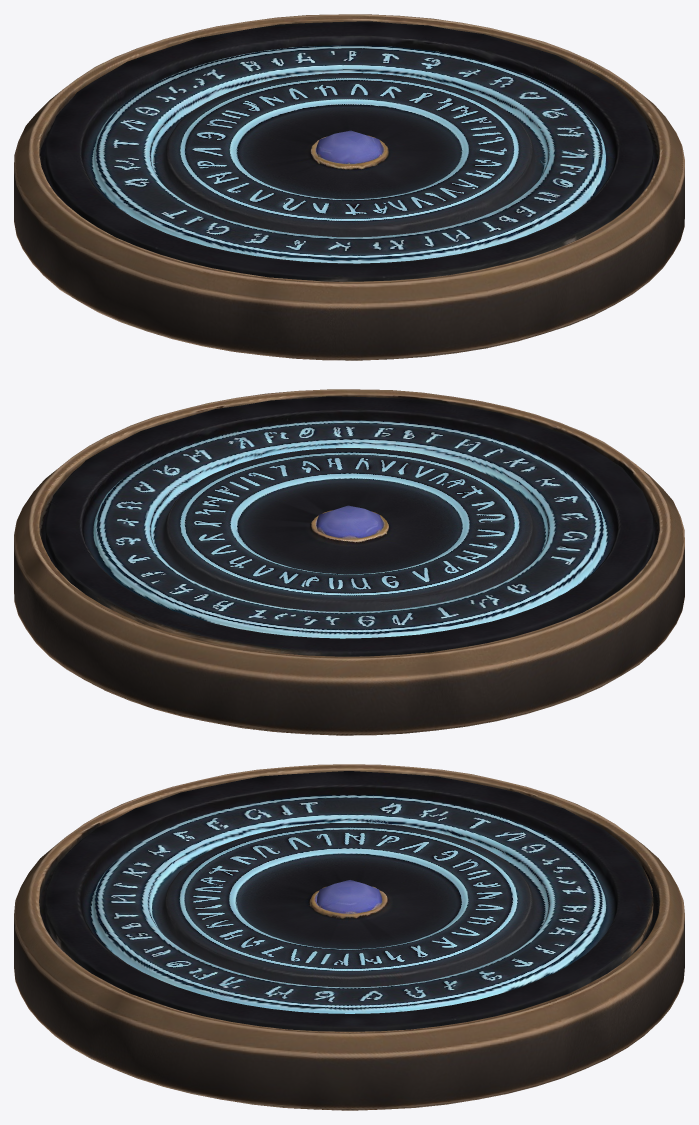
File: tripo_convert_9b4687b4-e1bc-4c60-b7de-66b8dd94ba9b.fbx
3 renders of one model, top to bottom at view 1: azimuth 30°, elevation 25°; view 2: azimuth 150°, elevation 25°; view 3: azimuth 270°, elevation 25°, orthographic.
Parts seen in each view (by area): view 1: tripo_node_9b4687b4; view 2: tripo_node_9b4687b4; view 3: tripo_node_9b4687b4.
Boxes of the visible parts, x1,y1,x2,y2 form: tripo_node_9b4687b4: [14, 14, 684, 360]; tripo_node_9b4687b4: [14, 389, 684, 735]; tripo_node_9b4687b4: [14, 764, 684, 1110].
Size of the model in its own units: 0.998 by 0.1348 by 0.998.
1 material, 1 textured.
